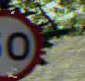Speed limit: (0, 10, 42, 78)
